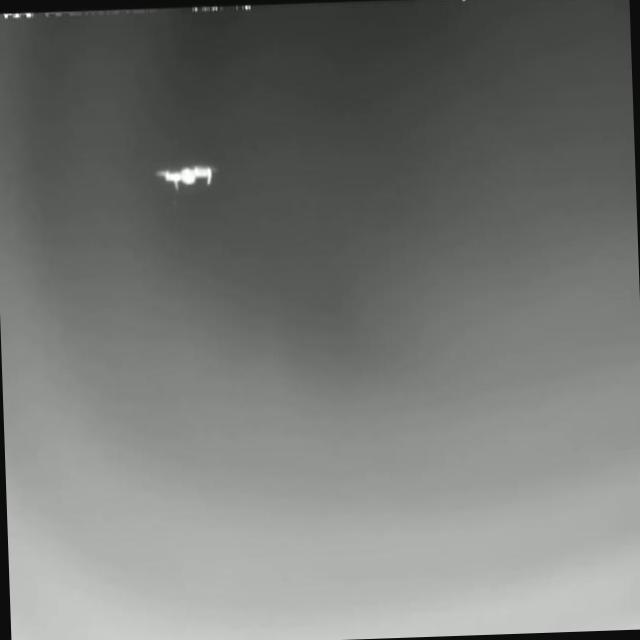DRONE: (156, 164, 220, 191)
